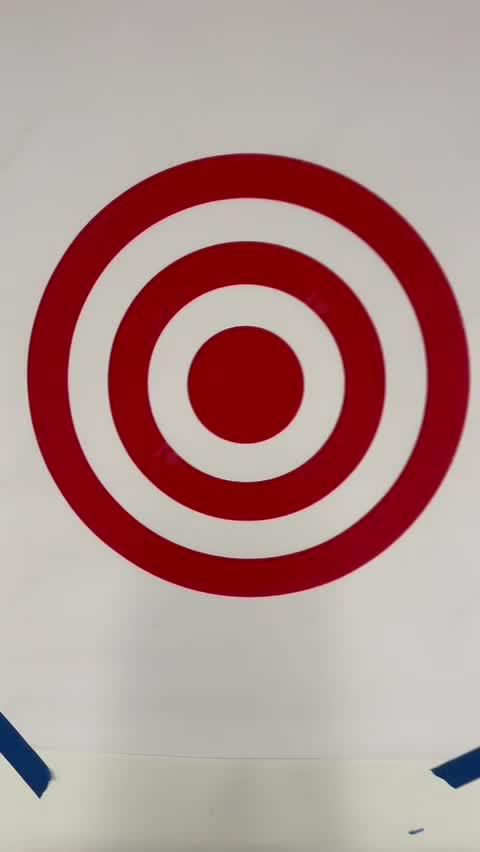target_red: (26, 151, 472, 592)
